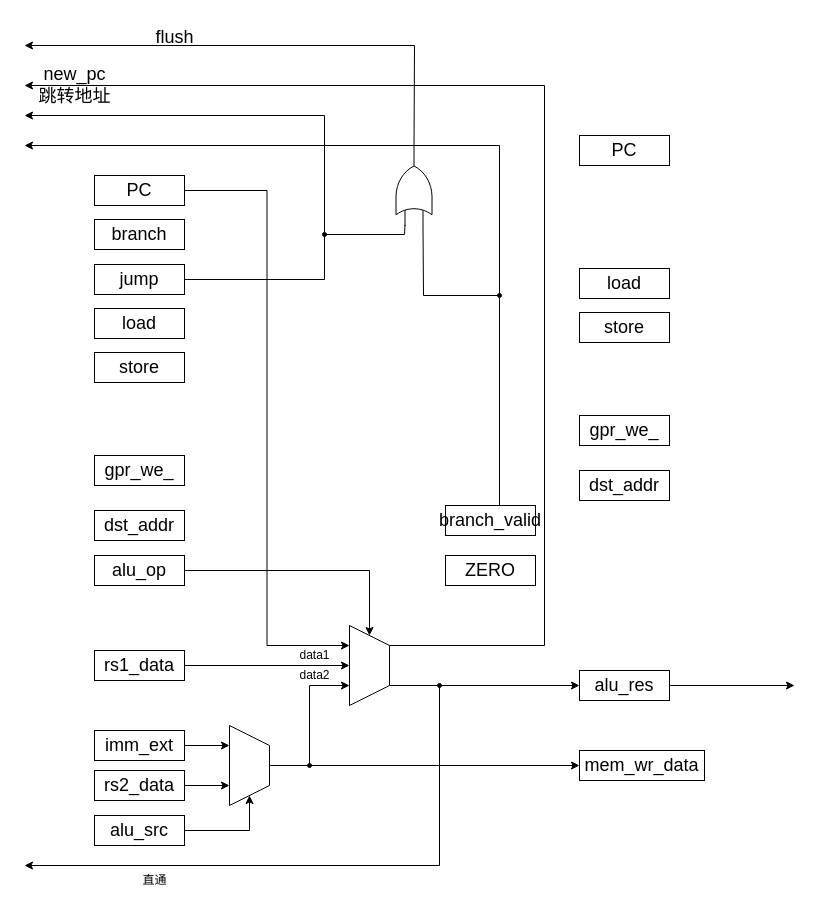
Image size: 820x912. Some labels were removed from this diagram. Here are the shapes that lost their labels. From the top down, the centre of each, then its label:
[369,665]: ALU
[249,765]: MUX
